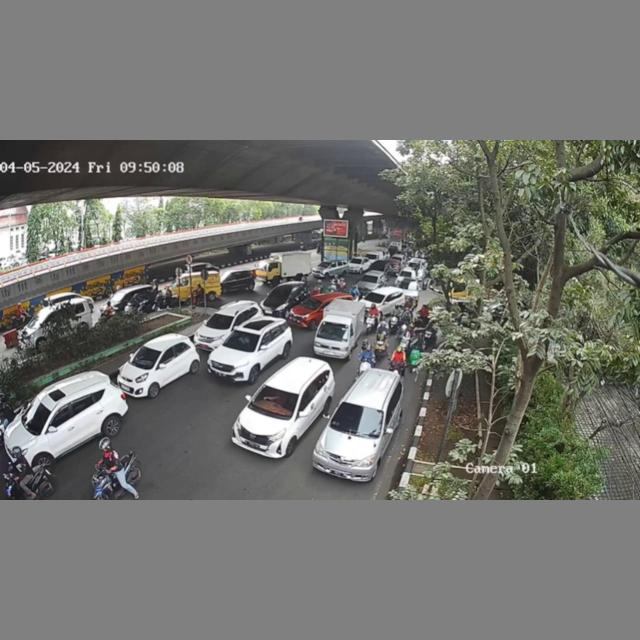windshield: (333, 402, 385, 437), (251, 387, 297, 416), (225, 329, 257, 352), (316, 321, 351, 342), (130, 347, 159, 367), (205, 311, 233, 329)
